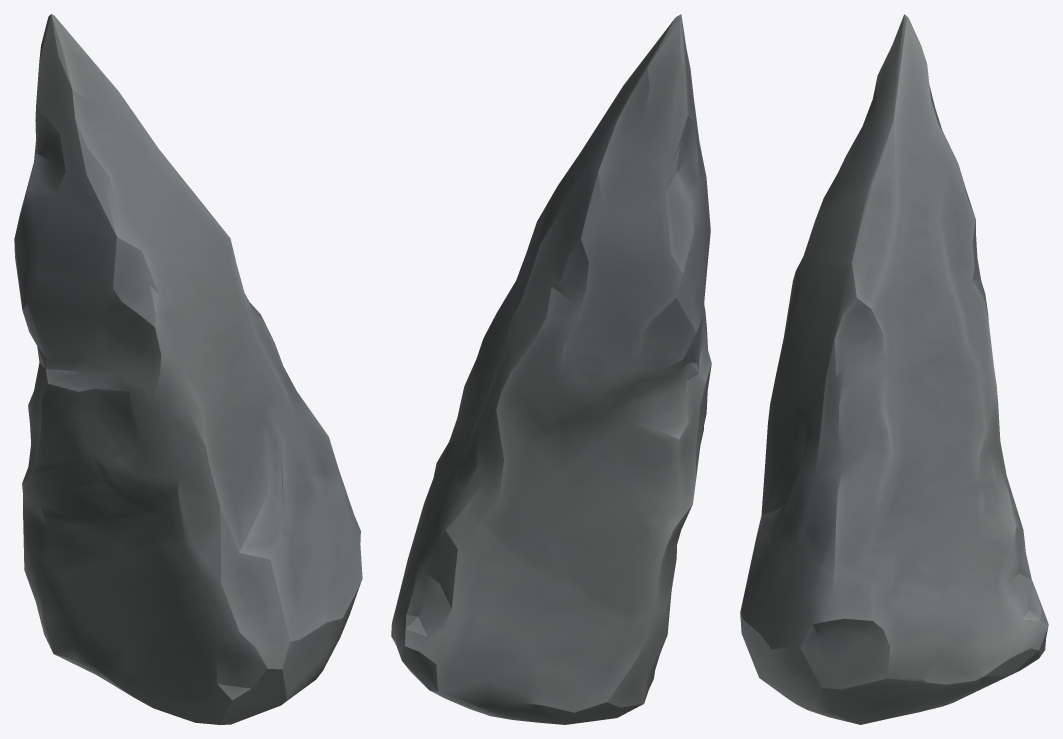
File: GrayRockType1.fbx
3 views of the same model, side by side, from view 1: azimuth 30°, elevation 25°; view 2: azimuth 150°, elevation 25°; view 3: azimuth 270°, elevation 25° (orthographic). The views are drawn at different scales.
Parts seen in each view (by area): view 1: Rock_Sharp1 (1); view 2: Rock_Sharp1 (1); view 3: Rock_Sharp1 (1).
Boxes of the visible parts, box(x1,y1,x2,y2) form: Rock_Sharp1 (1): box(14, 14, 362, 724); Rock_Sharp1 (1): box(391, 14, 711, 724); Rock_Sharp1 (1): box(740, 14, 1048, 724).
Bounding box in the file's own units: 10.63 × 24.92 × 11.01.
